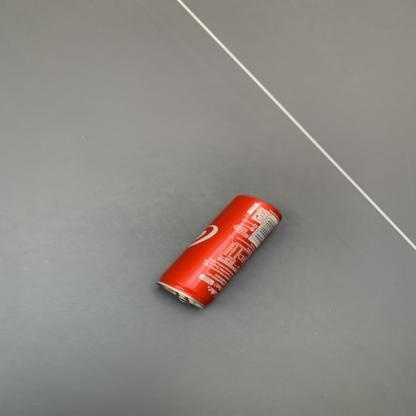trash: (158, 195, 281, 307)
